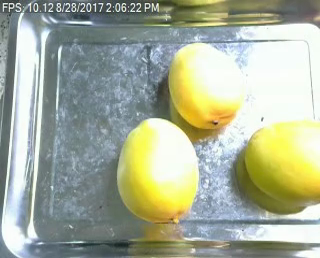Mango: (112, 115, 200, 224), (168, 39, 245, 130), (245, 118, 320, 207)
